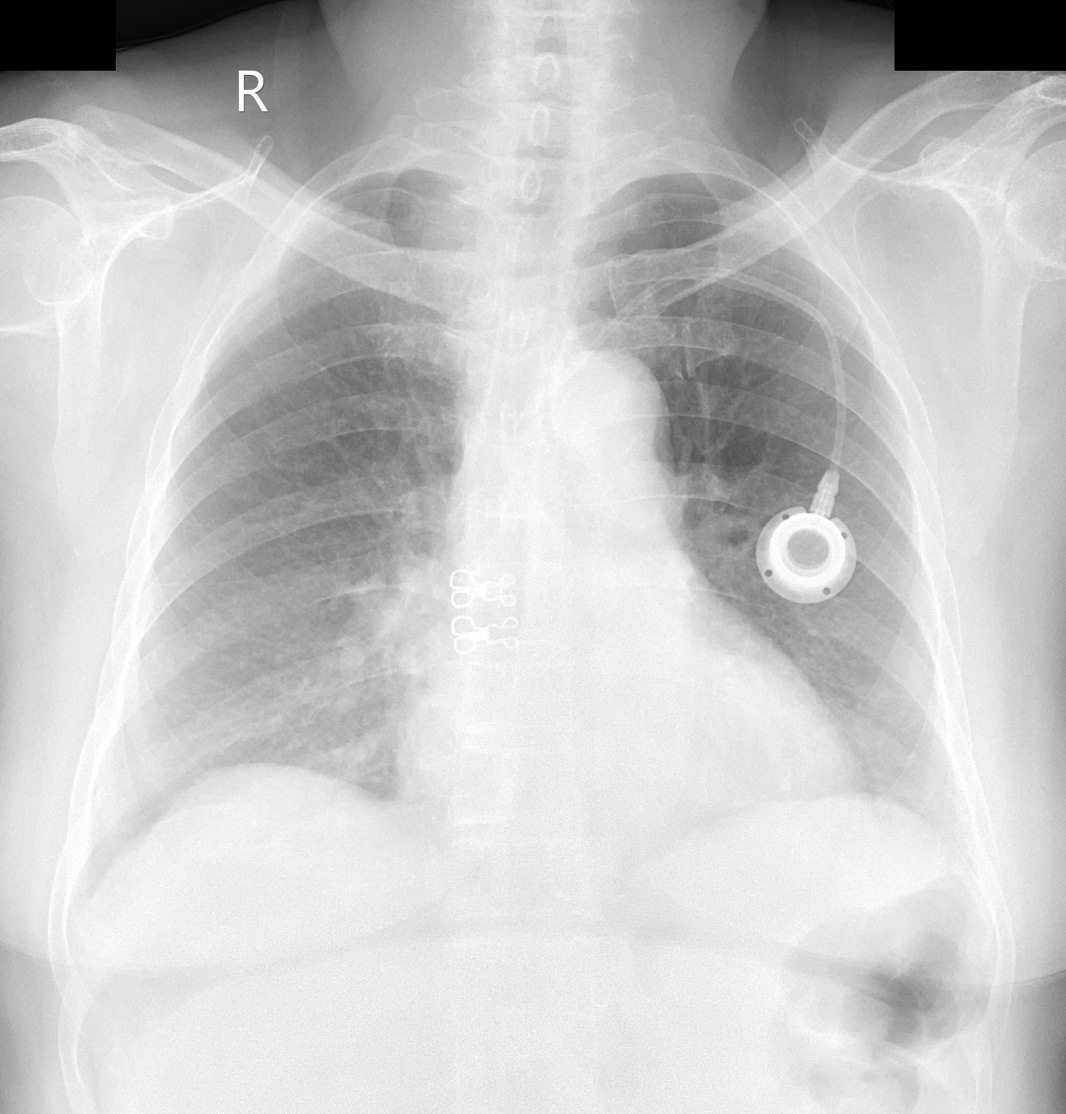Aortic enlargement: (548, 351, 669, 444)
